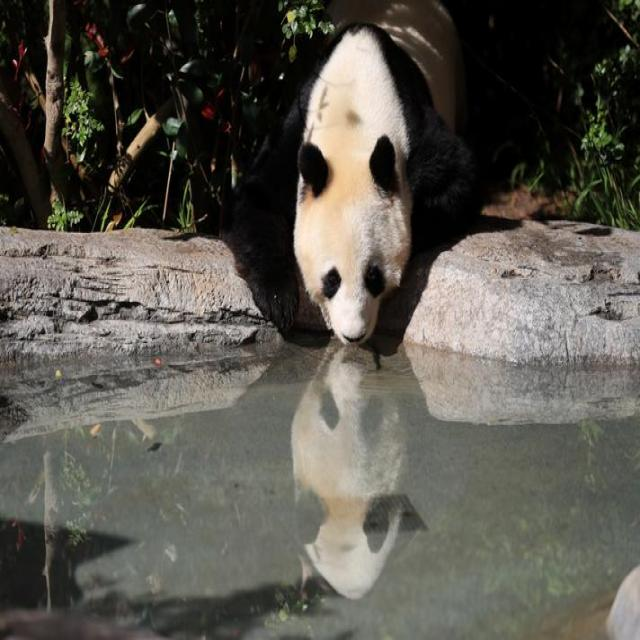panda: (190, 0, 526, 371)
